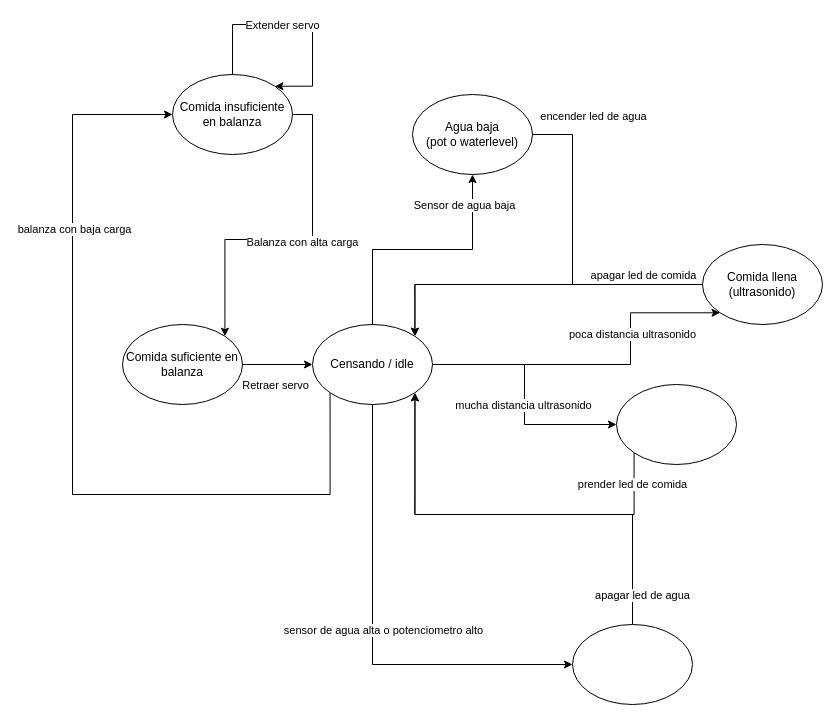
This 840x722 diagram has some shape labels left out. The centre of each missing label's shape, as x and y in pixels:
Agua alta (pot o waterlevel): (x=632, y=664)
Comida vacio (ultrasonido): (x=676, y=424)
